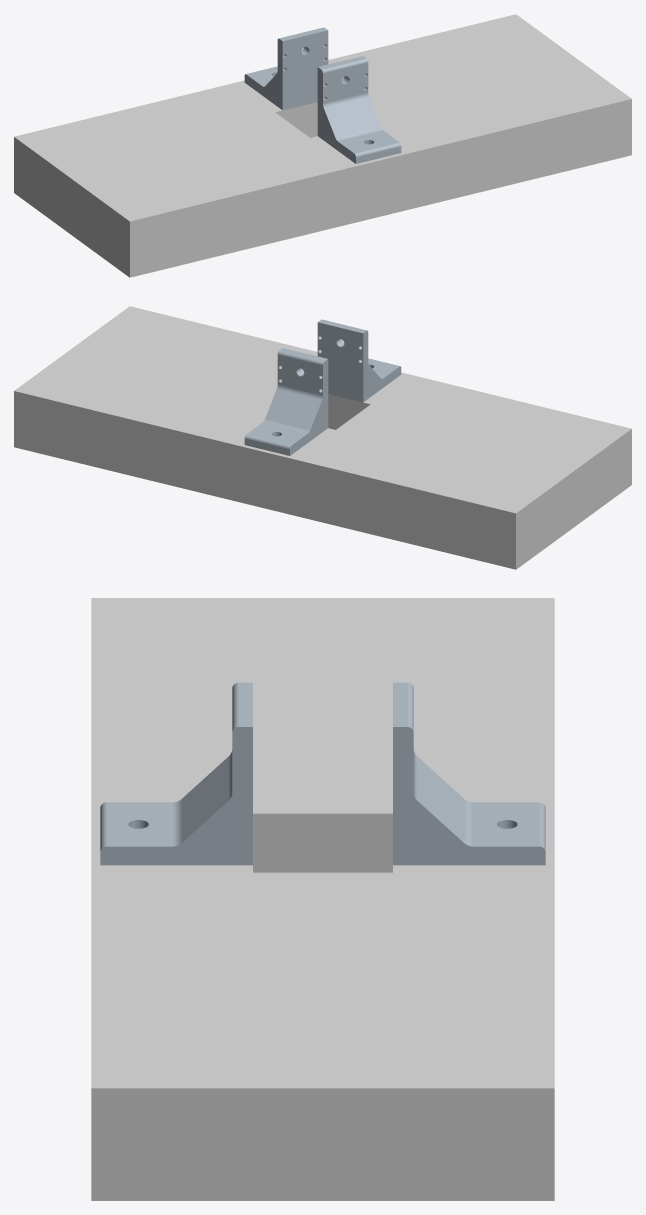
3 views of the same model, one above another, from view 1: azimuth 30°, elevation 25°; view 2: azimuth 150°, elevation 25°; view 3: azimuth 270°, elevation 25° (orthographic). The views are drawn at different scales.
Parts seen in each view (by area): view 1: Part 1 (×3); view 2: Part 1 (×3); view 3: Part 1 (×3).
Boxes of the visible parts, x1,y1,x2,y2 form: Part 1 (×3): (14, 14, 631, 277); Part 1 (×3): (14, 306, 631, 569); Part 1 (×3): (91, 598, 554, 1200).
Bounding box in the file's own units: 0.448 × 0.179 × 0.107.
